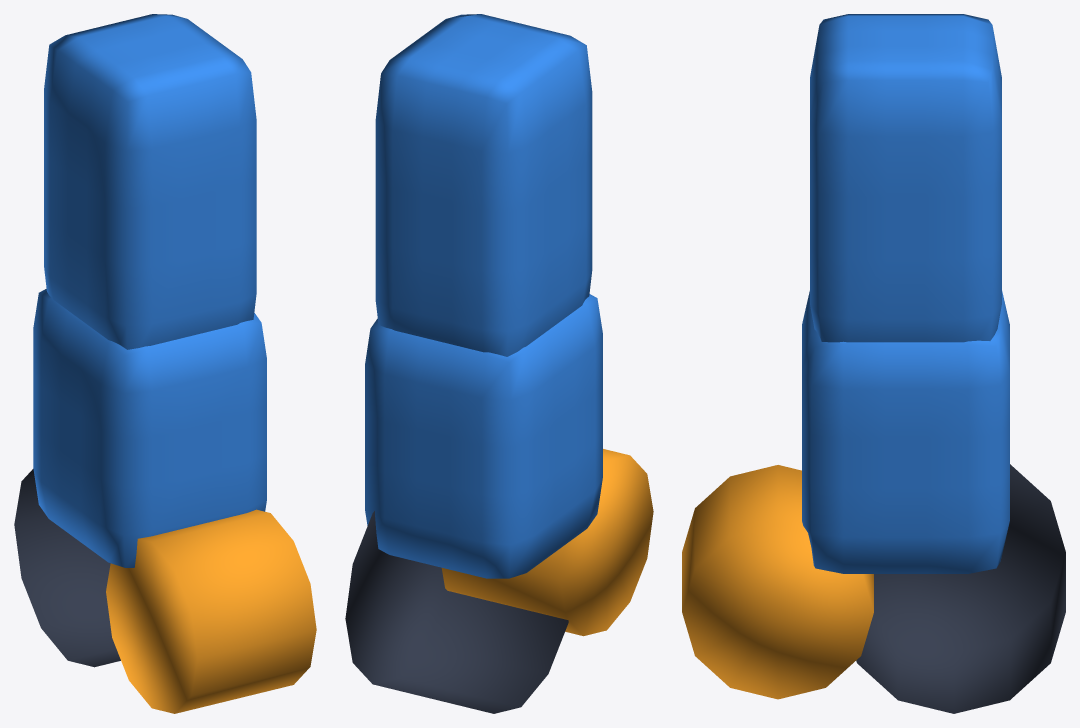
Rendered from leg_wheels.obj.
3 views of the same model, side by side, from view 1: azimuth 30°, elevation 25°; view 2: azimuth 150°, elevation 25°; view 3: azimuth 270°, elevation 25° (orthographic). The views are drawn at different scales.
Size of the model in its own units: 0.24 by 0.89 by 0.48.
